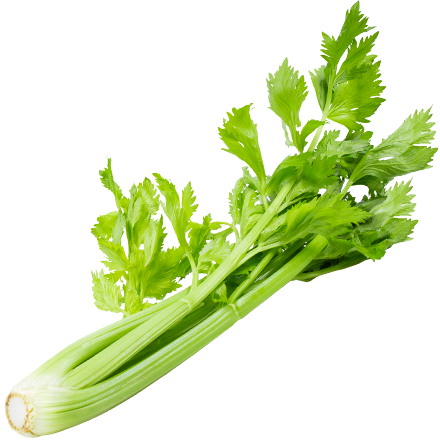Seledri: (21, 34, 440, 360)
